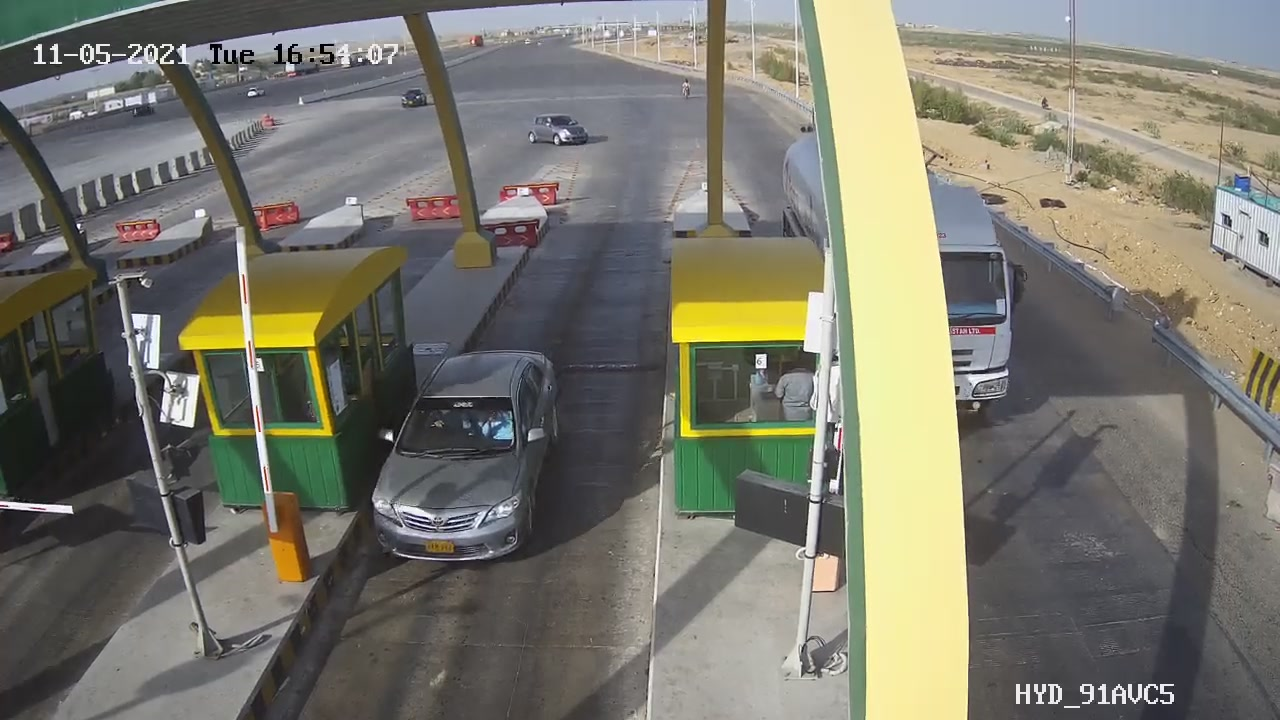F1: (353, 331, 583, 586)
